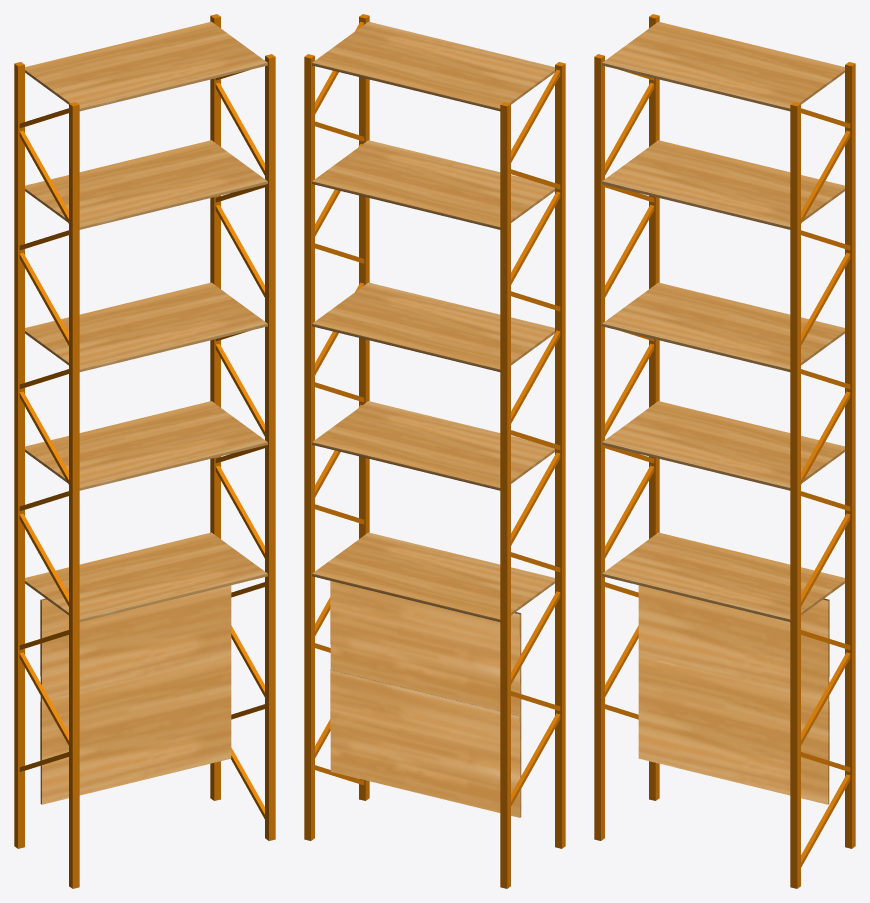
The model's file is Industrial_Rack_07.fbx.
3 views of the same model, side by side, from view 1: azimuth 30°, elevation 25°; view 2: azimuth 150°, elevation 25°; view 3: azimuth 330°, elevation 25° (orthographic).
Visible parts, largest first — view 1: Industrial_Rack_07; view 2: Industrial_Rack_07; view 3: Industrial_Rack_07.
Part boxes in pixels (x1=…): Industrial_Rack_07: x1=14, y1=14, x2=275, y2=888; Industrial_Rack_07: x1=304, y1=14, x2=565, y2=888; Industrial_Rack_07: x1=594, y1=14, x2=855, y2=888.
Bounding box in the file's own units: 2 × 7.37 × 1.
